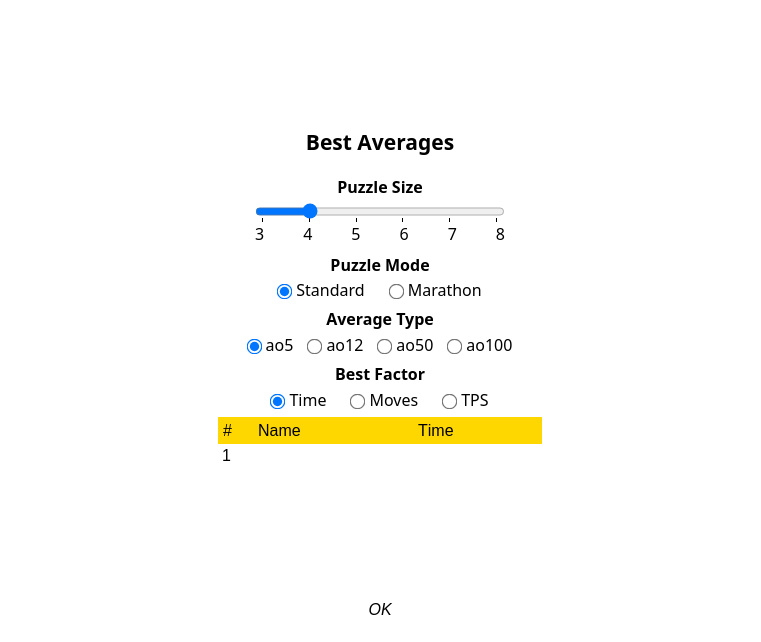
Scenario: LeaderBoard › opening/closing the games table › opens the averages games table from the moves column too
The image size is (761, 642).
Check: the element with class "leaderboard" is shown, box [218,128,542,626]
Click the text "Moves" at (394, 400), box [370,388,418,412]
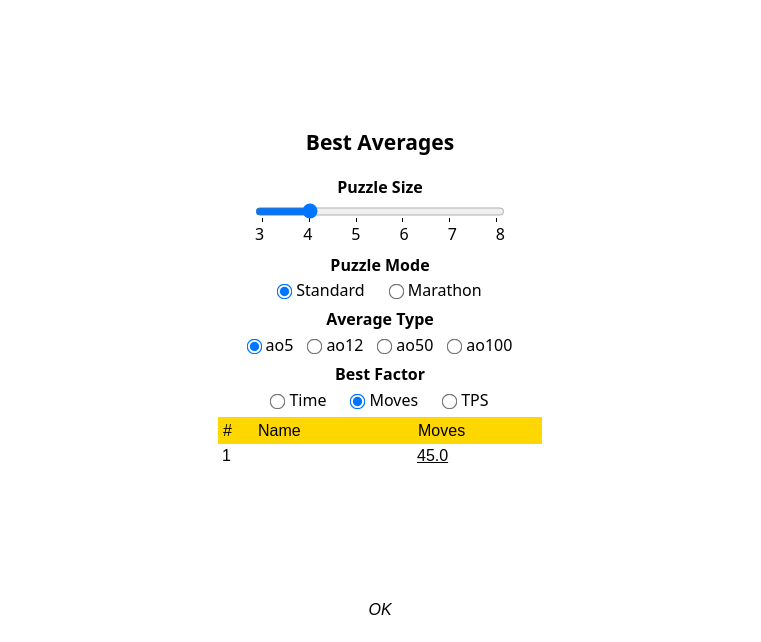
Check: the element with class "leaderboard" is shown, box [218,128,542,626]
Click the cell with class "link-item" at (433, 456), box [413,444,542,468]
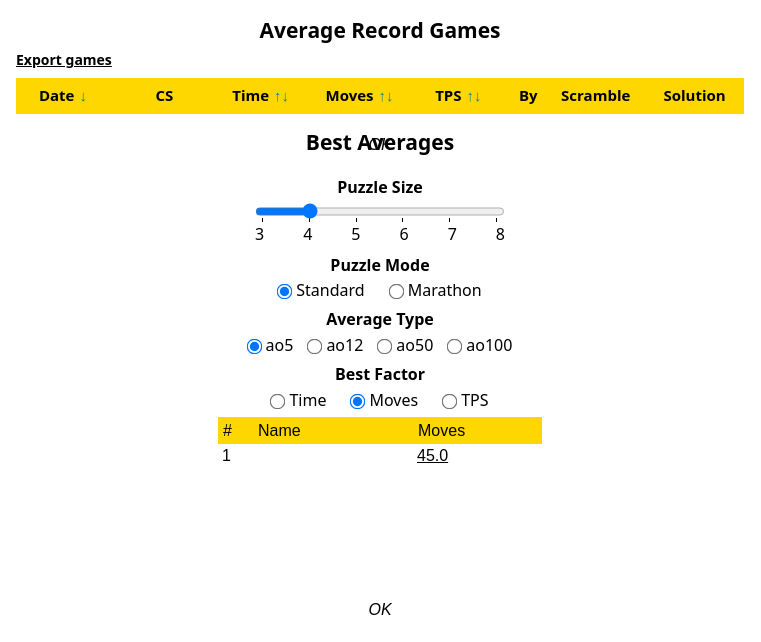
Check: the element with class "games-table" is shown, box [16,16,744,161]
